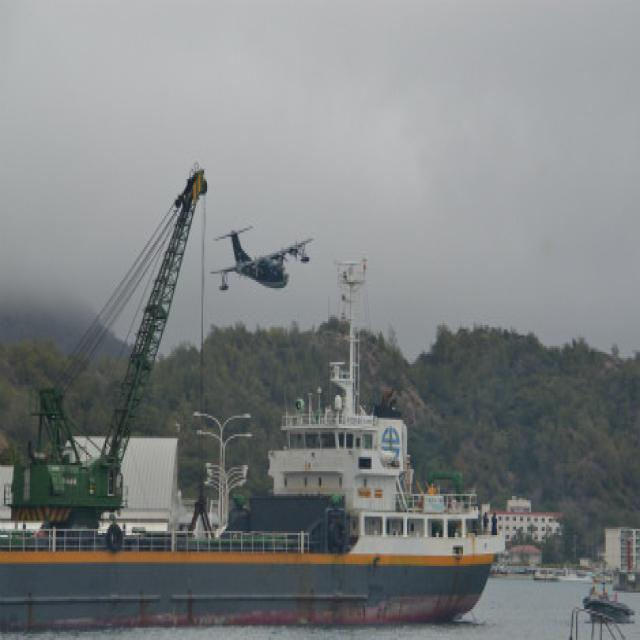MIL_Plane: (207, 222, 316, 292)
